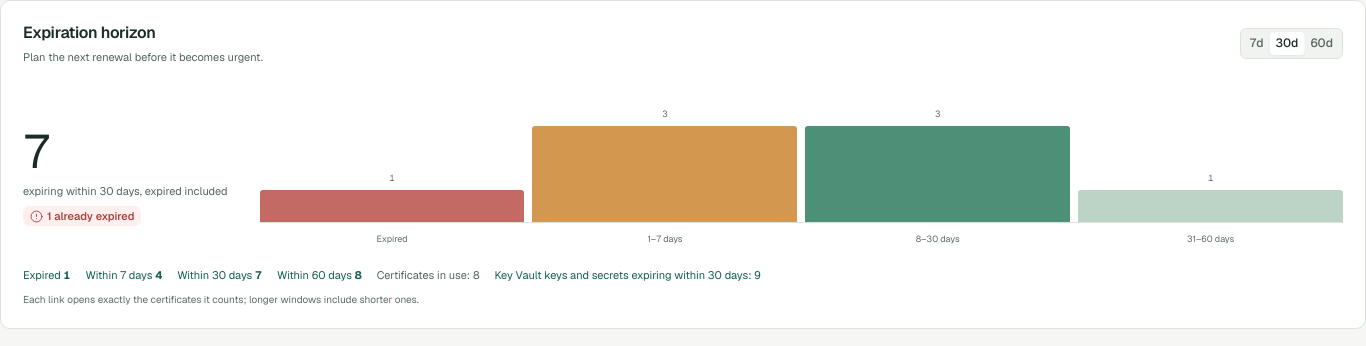
Test: ExpiryHorizon › states the chosen cumulative window in the headline
Check: the radio button named "30 days" is shown, box [1270,32,1304,55]
Check: the radio button named "60 days" is shown, box [1304,32,1339,55]
Step 1. Click the radio button named "7 days" → click(1257, 44), box [1244,32,1270,55]
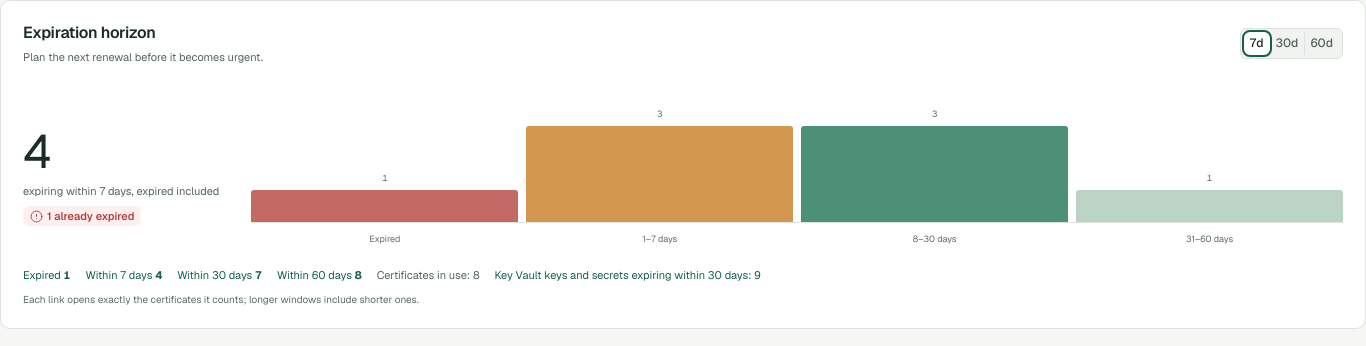
Check: the element with test id "horizon-headline" shows "4", box [23,121,49,182]
Check: the element with test id "horizon-headline" shows "expiring within 7 days, expired included", box [23,184,219,198]
